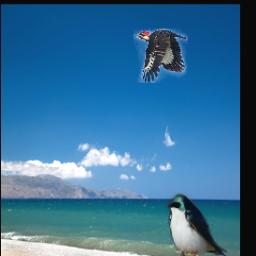Swallow: (165, 193, 227, 256)
Woodpecker: (134, 30, 188, 84)
